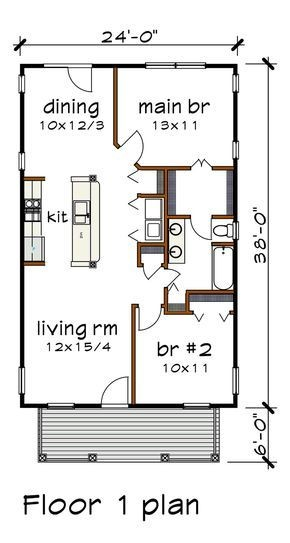door: (102, 371, 133, 409), (184, 209, 216, 245), (138, 304, 168, 338), (120, 126, 146, 164), (63, 66, 97, 95), (186, 157, 212, 176), (140, 263, 165, 280), (165, 264, 179, 282)
room: (117, 73, 240, 304), (15, 56, 118, 277), (26, 273, 134, 414), (135, 295, 239, 412)
wall: (18, 172, 26, 365), (108, 62, 122, 140), (227, 295, 241, 360), (16, 93, 29, 145), (231, 237, 243, 288), (130, 307, 136, 408), (88, 61, 142, 72), (229, 161, 240, 214), (231, 94, 242, 142), (140, 402, 184, 413), (212, 399, 239, 412), (73, 399, 102, 411), (203, 62, 239, 71), (18, 397, 43, 409), (21, 59, 45, 71)
window: (141, 58, 206, 75), (16, 363, 28, 393), (230, 366, 240, 399), (183, 401, 210, 413), (48, 399, 76, 410), (17, 71, 28, 95), (16, 149, 28, 170), (229, 75, 243, 92), (230, 142, 240, 160)
